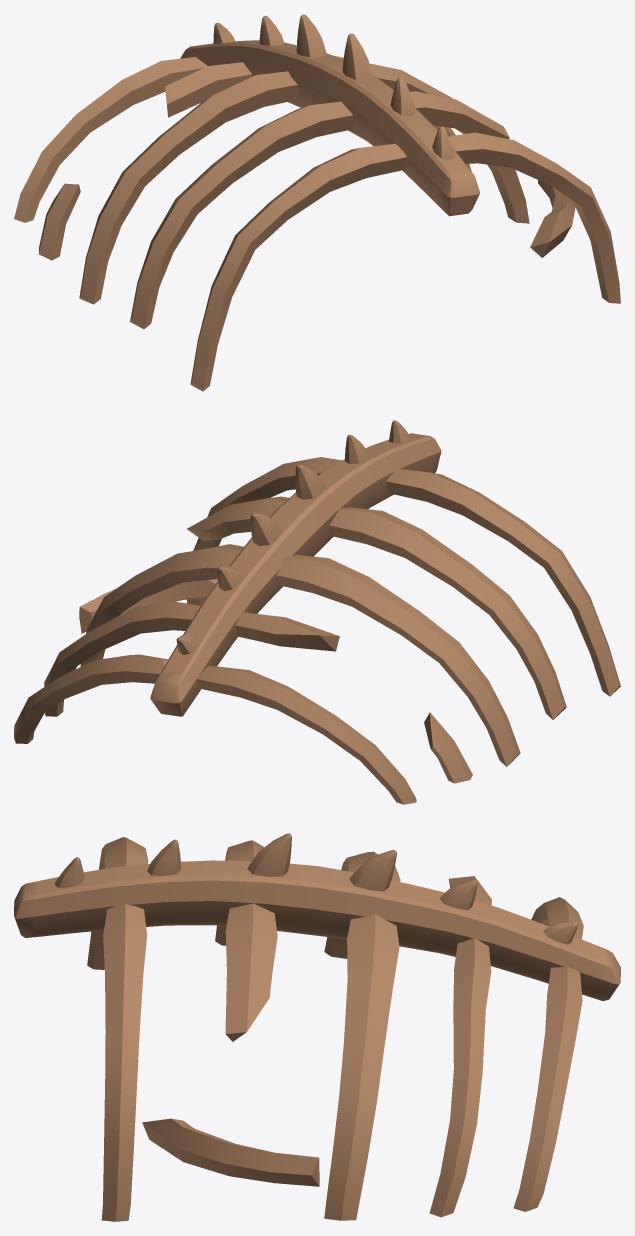
Rendered from bones.glb.
The picture shows the model from 3 angles, top to bottom: view 1: azimuth 30°, elevation 25°; view 2: azimuth 150°, elevation 25°; view 3: azimuth 270°, elevation 25°; orthographic projection. The views are drawn at different scales.
Parts seen in each view (by area): view 1: Environment_LargeBones; view 2: Environment_LargeBones; view 3: Environment_LargeBones.
Boxes of the visible parts, x1=… form: Environment_LargeBones: x1=14, y1=14, x2=620, y2=391; Environment_LargeBones: x1=14, y1=420, x2=620, y2=804; Environment_LargeBones: x1=14, y1=833, x2=620, y2=1221.
Bounding box in the file's own units: 6.5 × 3.43 × 6.62.
